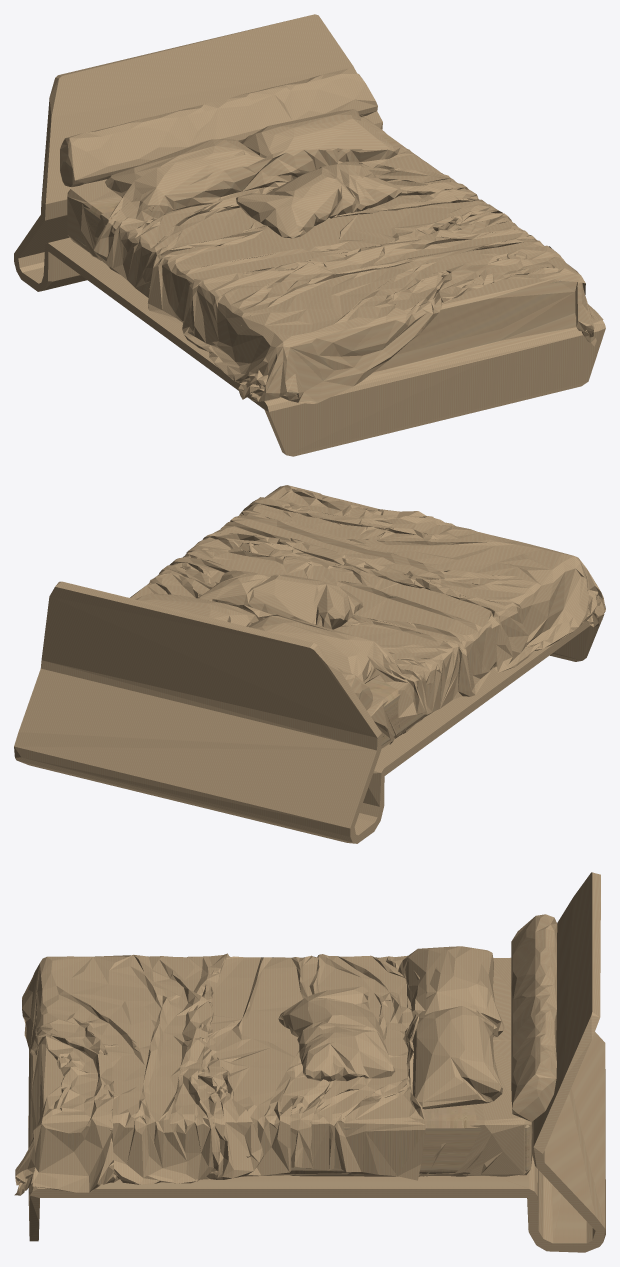
Rendered from woody-bed.glb.
3 renders of one model, top to bottom at view 1: azimuth 30°, elevation 25°; view 2: azimuth 150°, elevation 25°; view 3: azimuth 270°, elevation 25°, orthographic. The views are drawn at different scales.
Parts seen in each view (by area): view 1: product; view 2: product; view 3: product.
Part boxes in pixels (x1,y1,x2,y2): product: (14,14,605,456); product: (14,485,605,843); product: (14,872,605,1252).
Size of the model in its own units: 0.7927 by 0.4088 by 1.
1 material, 1 textured.
